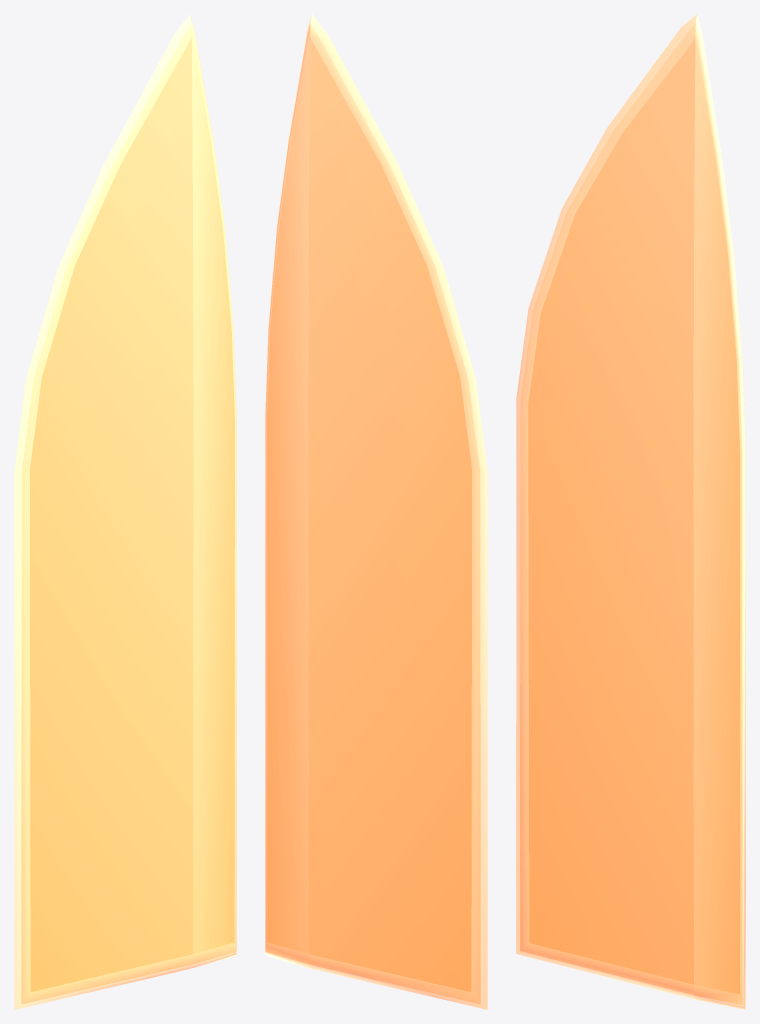
Rendered from wood_blade (8).glb.
3 renders of one model, left to right at view 1: azimuth 30°, elevation 25°; view 2: azimuth 150°, elevation 25°; view 3: azimuth 330°, elevation 25°, orthographic. The views are drawn at different scales.
Visible parts, largest first — view 1: wood_blade_steel.078; view 2: wood_blade_steel.078; view 3: wood_blade_steel.078.
Boxes of the visible parts, bbox=[...] form: wood_blade_steel.078: bbox=[14, 14, 236, 1009]; wood_blade_steel.078: bbox=[265, 14, 487, 1009]; wood_blade_steel.078: bbox=[516, 14, 745, 1009].
Bounding box in the file's own units: 2.79 × 11.43 × 0.1594.
1 material, 1 textured.
